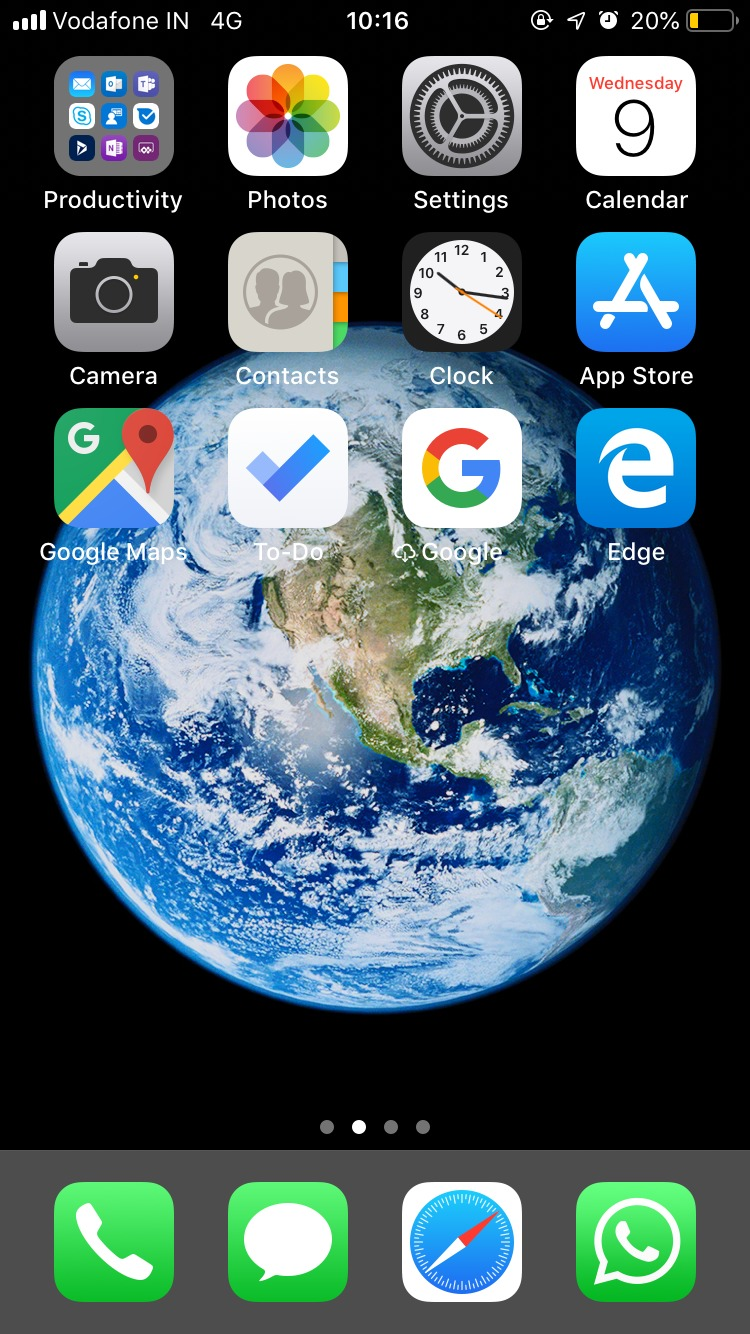calendar: (561, 64, 698, 186)
camera: (51, 238, 179, 364)
clock: (386, 224, 520, 364)
phonemessages: (202, 1185, 360, 1310)
